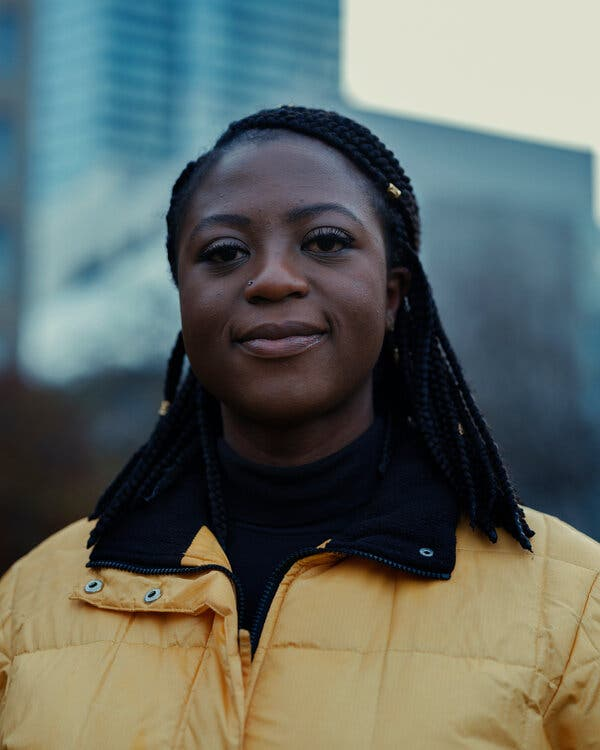person: (162, 103, 416, 424)
